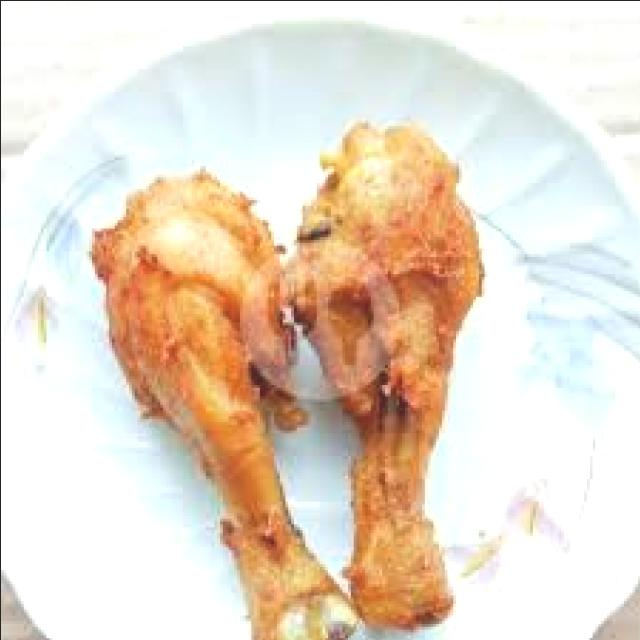ayam goreng: (85, 168, 361, 640), (284, 119, 486, 634)
